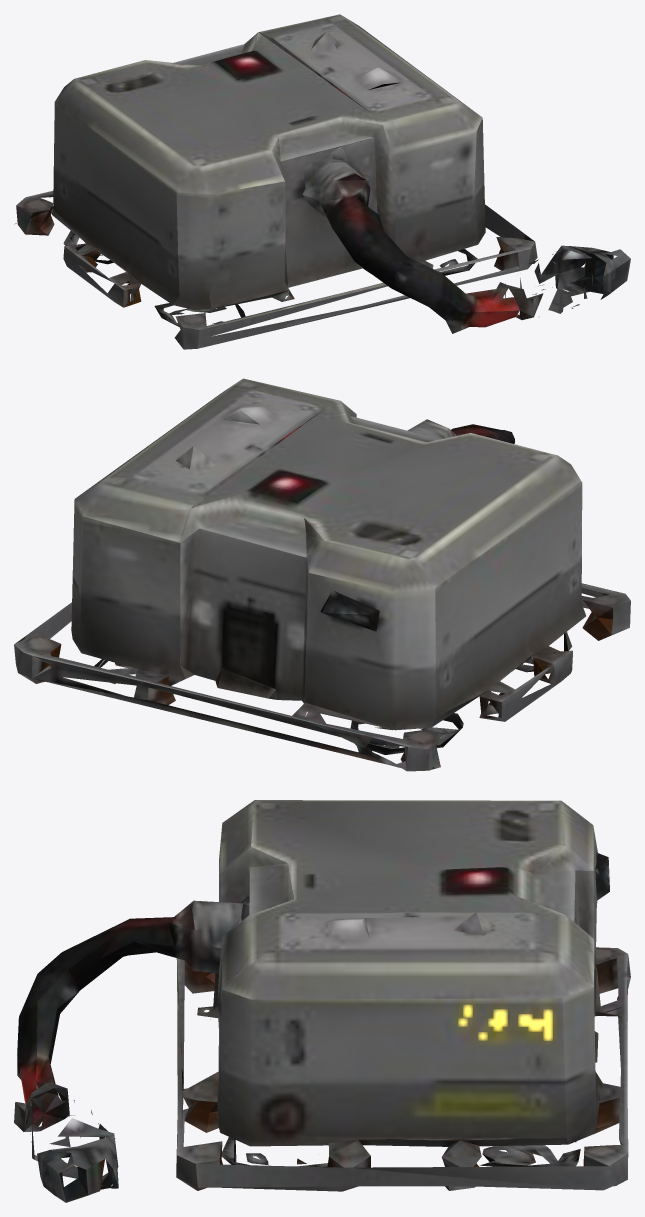
3 views of the same model, one above another, from view 1: azimuth 30°, elevation 25°; view 2: azimuth 150°, elevation 25°; view 3: azimuth 270°, elevation 25° (orthographic). The views are drawn at different scales.
Parts seen in each view (by area): view 1: body; view 2: body; view 3: body.
Boxes of the visible parts, x1,y1,x2,y2 form: body: [14, 14, 630, 349]; body: [14, 378, 630, 771]; body: [14, 800, 630, 1202].
Bounding box in the file's own units: 0.3019 × 0.1309 × 0.3187.
1 material, 1 textured.
